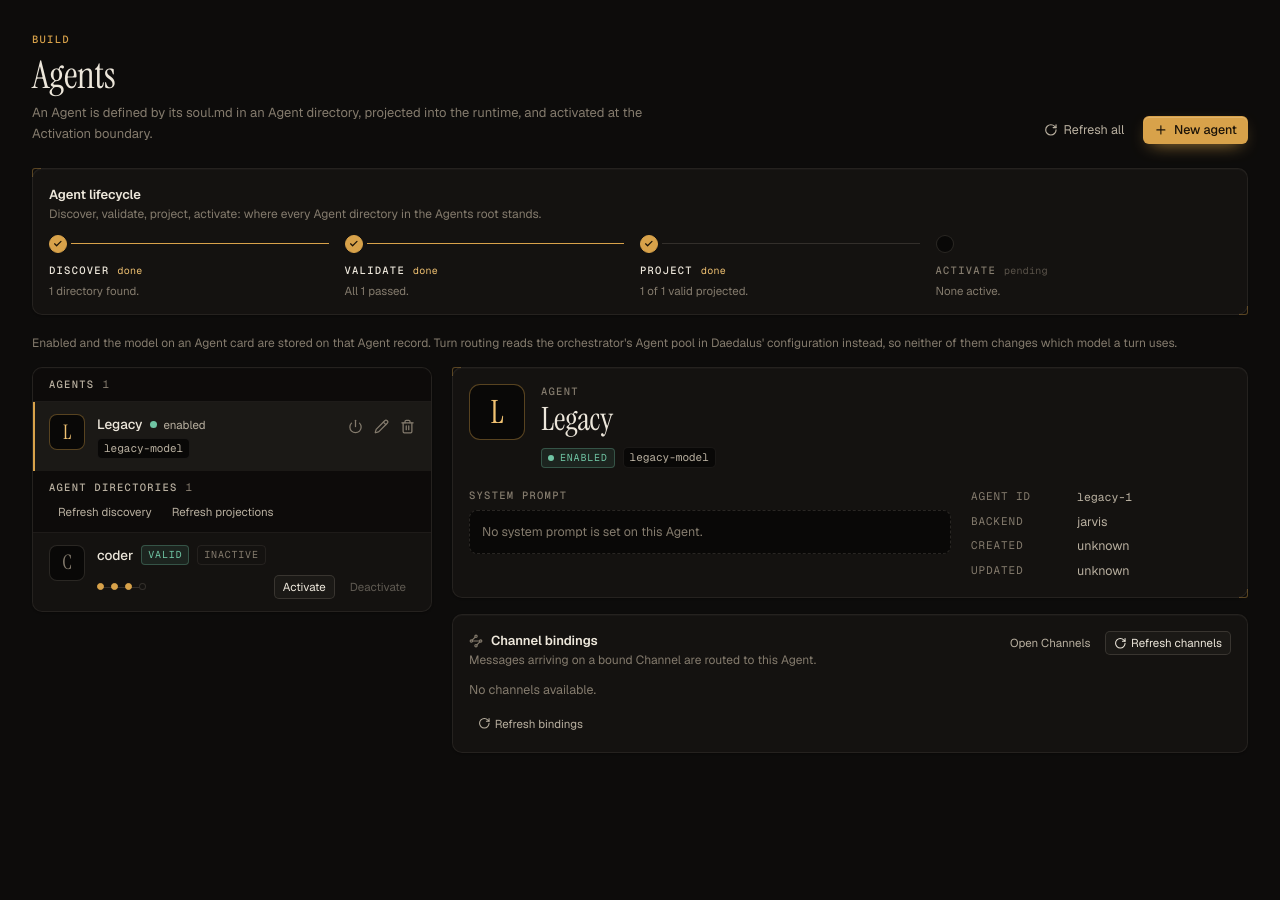
Test: Agent lifecycle activation › activates a valid discovered Agent once and waits for confirmed readback
Expected: the button "coder" is shown, [97,545,133,565]
Step 1. Click the button with aria-label "Activate agent coder" → {"x": 304, "y": 587}, box [274,575,335,599]
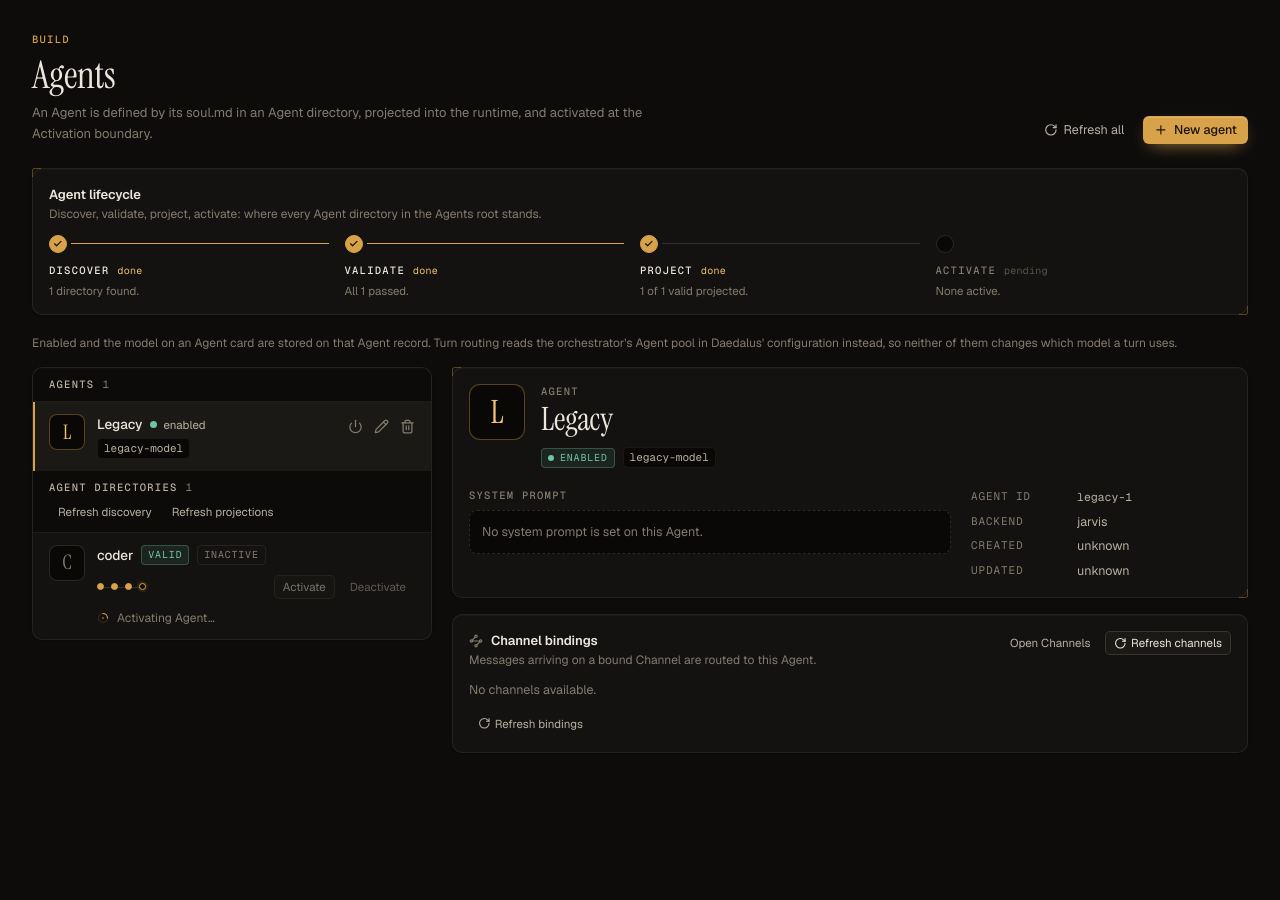
Step 2. Click the button with aria-label "Activate agent coder" → {"x": 304, "y": 587}, box [274,575,335,599]
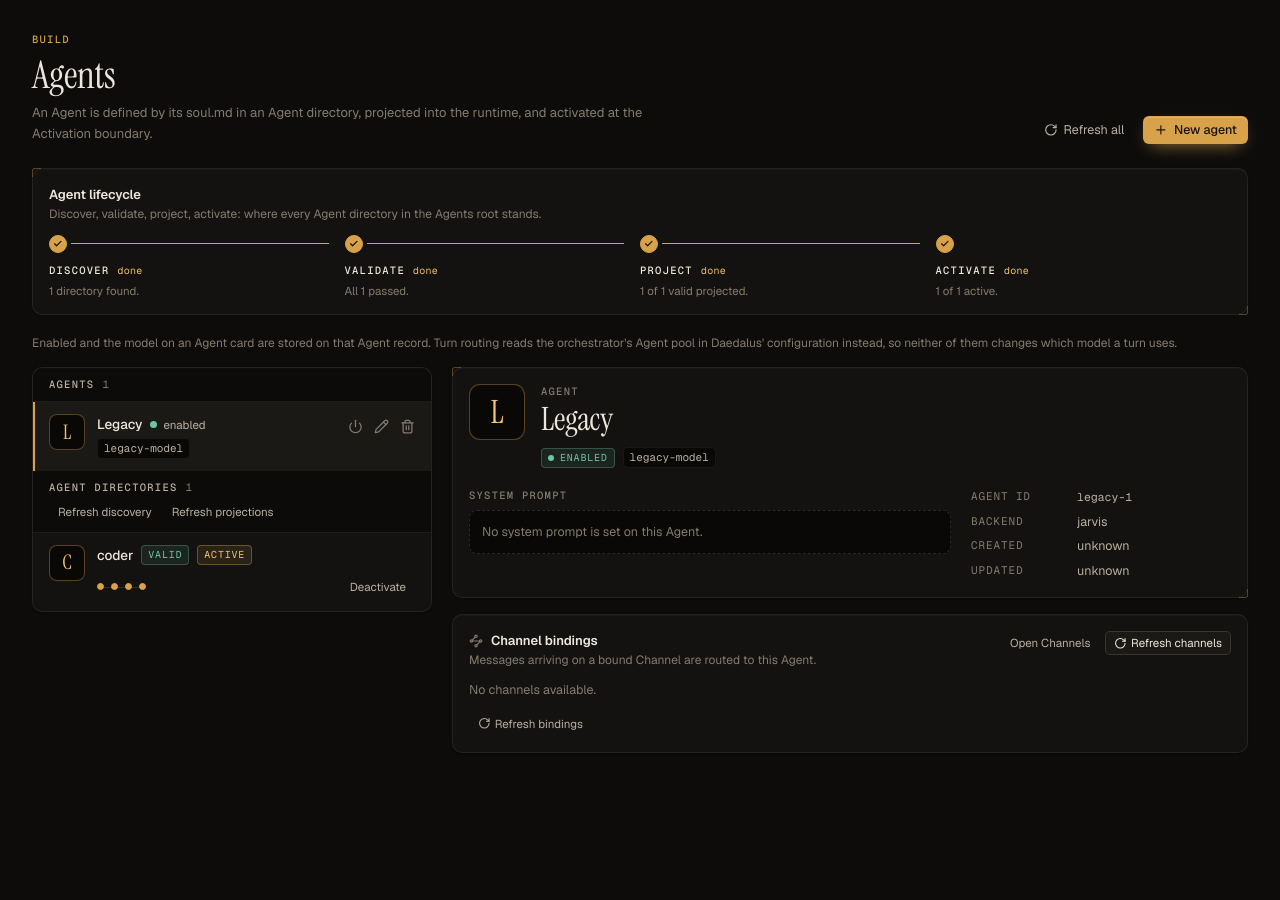
Expected: the button with aria-label "Deactivate agent coder" is enabled, [341,575,415,599]
